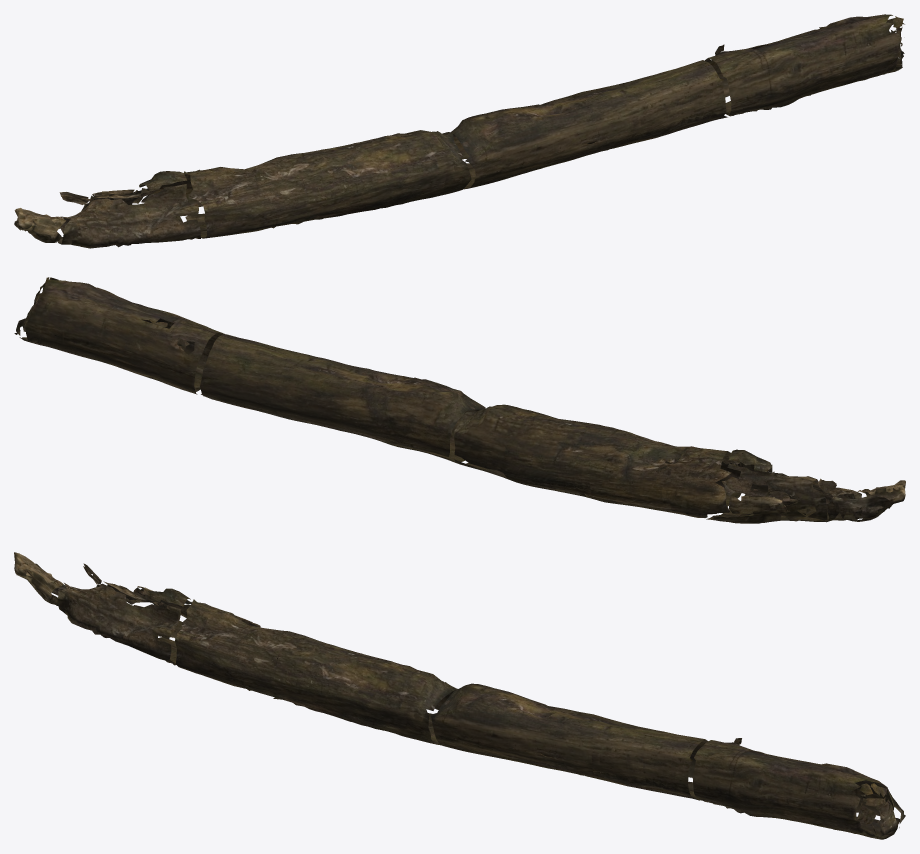
Rendered from log.glb.
3 views of the same model, one above another, from view 1: azimuth 30°, elevation 25°; view 2: azimuth 150°, elevation 25°; view 3: azimuth 330°, elevation 25° (orthographic).
Parts seen in each view (by area): view 1: dead_tree_trunk; view 2: dead_tree_trunk; view 3: dead_tree_trunk.
Boxes of the visible parts, left/top/right/bottom form: dead_tree_trunk: left=14, top=14, right=904, bottom=248; dead_tree_trunk: left=14, top=277, right=905, bottom=523; dead_tree_trunk: left=14, top=552, right=905, bottom=839.
Size of the model in its own units: 3.05 by 0.2853 by 0.2718.
Materials: 1 (1 with a texture image).
